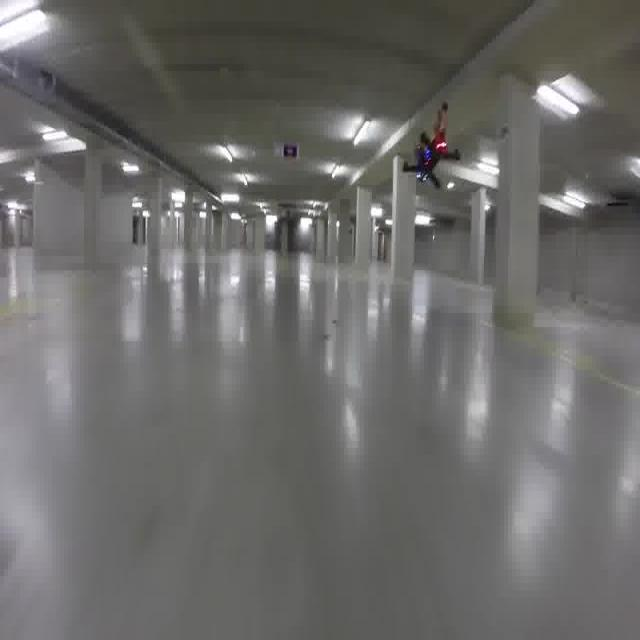Drone_FW: (399, 114, 463, 199)
